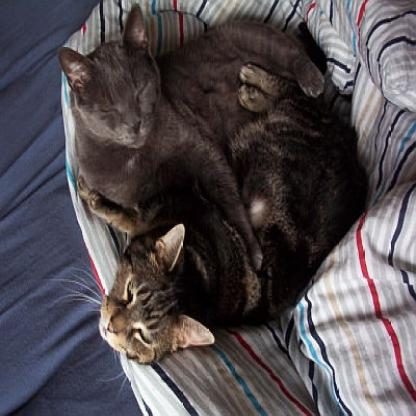cat: (87, 61, 370, 366), (57, 0, 326, 273)
